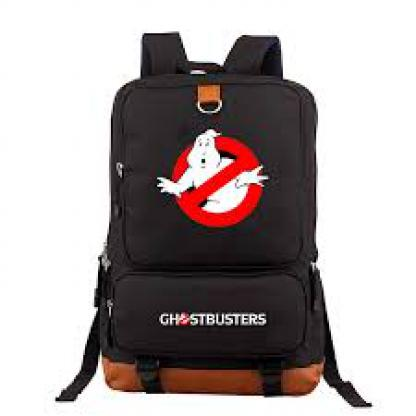morral: (54, 7, 377, 414)
